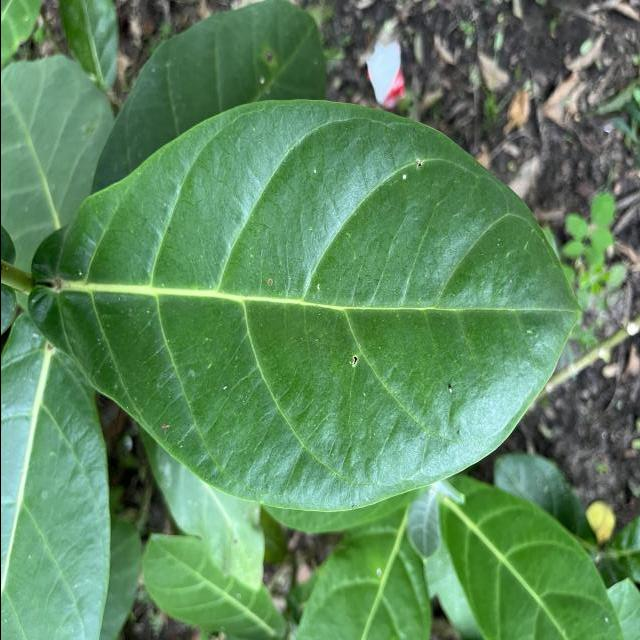Calotropis gigantea: (21, 96, 584, 516), (437, 483, 626, 640)
